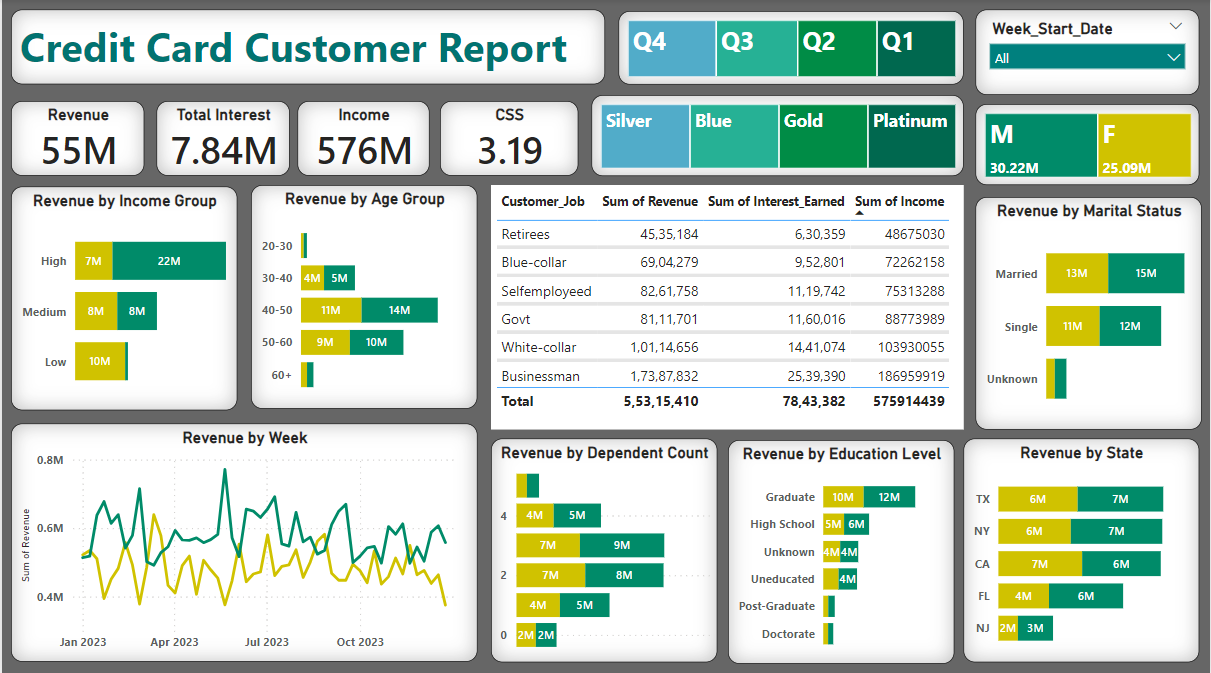

What the dashboard file says about the page in this screenshot:
{"tool":"powerbi","page":{"name":"CC Customer Dashboard","canvas":[1280,720],"ordinal":2},"visuals":[{"type":"textbox","box":[9.5,11.1,629.9,79.5],"z":0},{"type":"barChart","title":"Revenue by Income Group","fields":{"Y":["Sum(credit_card.Revenue)"],"Category":["customer.IncomeGroup"],"Series":["customer.Gender"]},"box":[9.5,198.8,240.2,237],"z":1000},{"type":"tableEx","fields":{"Values":["customer.Customer_Job","Sum(credit_card.Revenue)","Sum(credit_card.Interest_Earned)","Sum(customer.Income)"]},"box":[518.5,197.2,501,259.3],"z":2000},{"type":"card","title":"Revenue","fields":{"Values":["Sum(credit_card.Revenue)"]},"box":[9.5,108.2,141.6,79.5],"z":3000},{"type":"card","title":"Income","fields":{"Values":["Sum(customer.Income)"]},"box":[313.4,108.2,140,79.5],"z":4000},{"type":"card","title":"Total Interest","fields":{"Values":["Sum(credit_card.Interest_Earned)"]},"box":[163.8,108.2,141.6,79.5],"z":5000},{"type":"card","title":"CSS","fields":{"Values":["Avg(customer.Cust_Satisfaction_Score)"]},"box":[464.5,108.2,146.3,79.5],"z":6000},{"type":"slicer","fields":{"Values":["credit_card.Week_Start_Date"]},"box":[1032.3,11.1,237,90.7],"z":7000},{"type":"treemap","fields":{"Group":["credit_card.Qtr"],"Values":["Avg(credit_card.Client_Num)"]},"box":[653.7,12.7,365.8,77.9],"z":8000},{"type":"treemap","fields":{"Group":["credit_card.Card_Category"],"Values":["Avg(credit_card.Client_Num)"]},"box":[625.1,101.8,394.5,85.9],"z":9000},{"type":"lineChart","title":"Revenue by Week","fields":{"Y":["Sum(credit_card.Revenue)"],"Series":["customer.Gender"],"Category":["credit_card.Week_Start_Date.Variation.Date Hierarchy.Year","credit_card.Week_Start_Date.Variation.Date Hierarchy.Month","credit_card.Week_Start_Date.Variation.Date Hierarchy.Day"]},"box":[9.5,450.1,494.7,252.9],"z":10000},{"type":"treemap","fields":{"Group":["customer.Gender"],"Values":["Sum(credit_card.Revenue)"]},"box":[1032.3,111.3,237,85.9],"z":11000},{"type":"barChart","title":"Revenue by Age Group","fields":{"Y":["Sum(credit_card.Revenue)"],"Category":["customer.AgeGroup"],"Series":["customer.Gender"]},"box":[264,197.2,240.2,237],"z":12000},{"type":"barChart","title":"Revenue by Dependent Count","fields":{"Y":["Sum(credit_card.Revenue)"],"Category":["customer.Dependent_Count"],"Series":["customer.Gender"]},"box":[518.5,466,240.2,237],"z":13000},{"type":"barChart","title":"Revenue by Education Level","fields":{"Y":["Sum(credit_card.Revenue)"],"Category":["customer.Education_Level"],"Series":["customer.Gender"]},"box":[769.9,467.6,240.2,237],"z":14000},{"type":"barChart","title":"Revenue by State","fields":{"Y":["Sum(credit_card.Revenue)"],"Category":["customer.state_cd"],"Series":["customer.Gender"]},"box":[1019.6,466,249.7,237],"z":15000},{"type":"barChart","title":"Revenue by Marital Status","fields":{"Y":["Sum(credit_card.Revenue)"],"Category":["customer.Marital_Status"],"Series":["customer.Gender"]},"box":[1032.3,210,240.2,246.5],"z":16000}]}

Visuals, with their boxes in screenshot pixels (x1, y1, x2, y2), scaled from the page's 1280x720 canvas onto the 1211x673 screenshot:
textbox: <box>9,10,605,85</box>
"Revenue by Income Group" barChart: <box>9,186,236,407</box>
tableEx - customer.Customer_Job x Sum(credit_card.Revenue): <box>491,184,965,427</box>
"Revenue" card: <box>9,101,143,175</box>
"Income" card: <box>297,101,429,175</box>
"Total Interest" card: <box>155,101,289,175</box>
"CSS" card: <box>439,101,578,175</box>
slicer - credit_card.Week_Start_Date: <box>977,10,1201,95</box>
treemap - credit_card.Qtr x Avg(credit_card.Client_Num): <box>618,12,965,85</box>
treemap - credit_card.Card_Category x Avg(credit_card.Client_Num): <box>591,95,965,175</box>
"Revenue by Week" lineChart: <box>9,421,477,657</box>
treemap - customer.Gender x Sum(credit_card.Revenue): <box>977,104,1201,184</box>
"Revenue by Age Group" barChart: <box>250,184,477,406</box>
"Revenue by Dependent Count" barChart: <box>491,436,718,657</box>
"Revenue by Education Level" barChart: <box>728,437,956,659</box>
"Revenue by State" barChart: <box>965,436,1201,657</box>
"Revenue by Marital Status" barChart: <box>977,196,1204,427</box>
